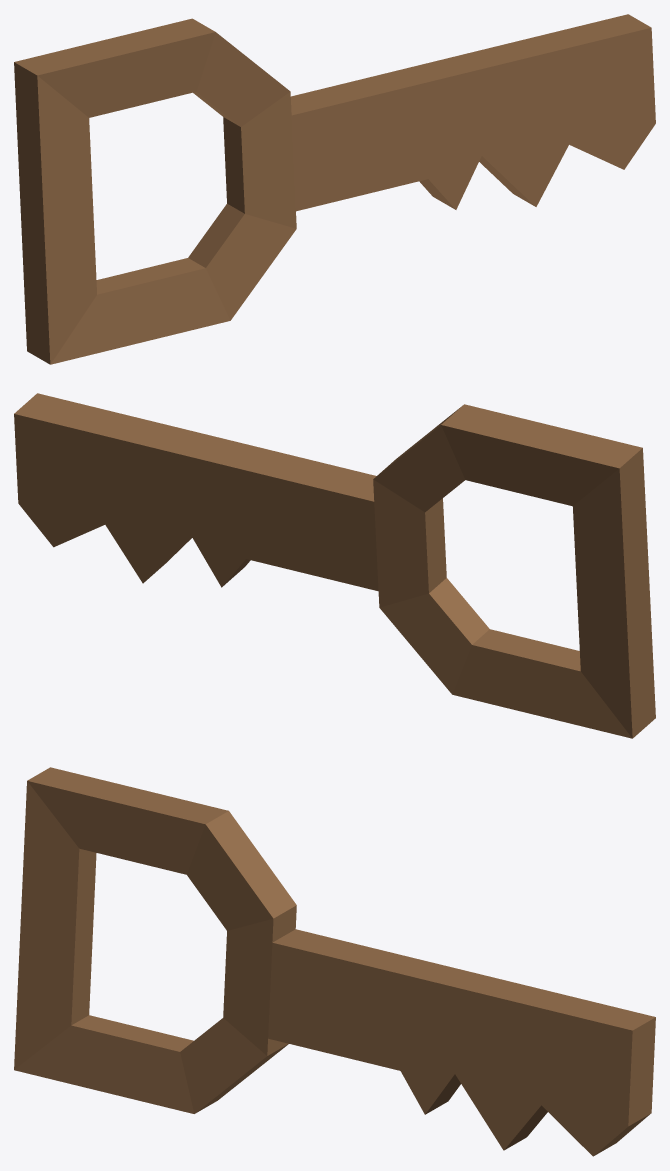
File: key.fbx
The picture shows the model from 3 angles, top to bottom: view 1: azimuth 30°, elevation 25°; view 2: azimuth 150°, elevation 25°; view 3: azimuth 330°, elevation 25°; orthographic projection.
Visible parts, largest first — view 1: key; view 2: key; view 3: key.
Boxes of the visible parts, x1=… form: key: x1=14, y1=14, x2=655, y2=364; key: x1=14, y1=393, x2=655, y2=738; key: x1=14, y1=767, x2=655, y2=1156.
Bounding box in the file's own units: 1.47 × 0.152 × 0.653.
